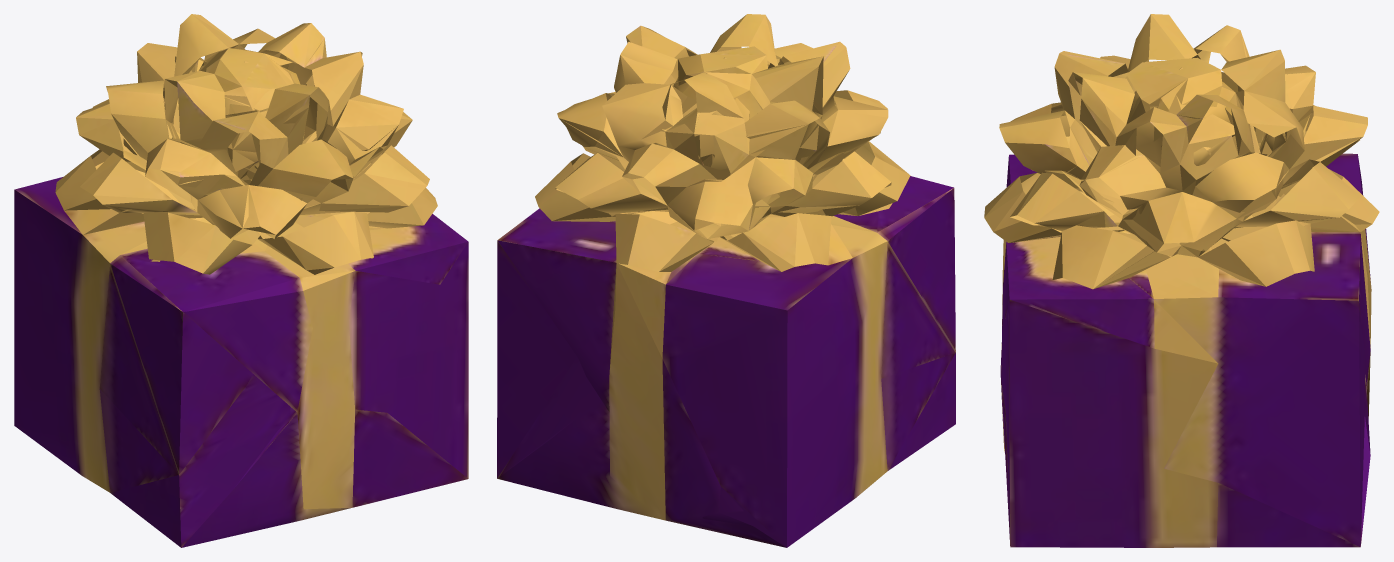
The model's file is gift_box.glb.
3 views of the same model, side by side, from view 1: azimuth 30°, elevation 25°; view 2: azimuth 150°, elevation 25°; view 3: azimuth 270°, elevation 25° (orthographic). The views are drawn at different scales.
Visible parts, largest first — view 1: Mesh_0; view 2: Mesh_0; view 3: Mesh_0.
Boxes of the visible parts, x1,y1,x2,y2 form: Mesh_0: [14, 14, 468, 547]; Mesh_0: [497, 14, 955, 547]; Mesh_0: [984, 14, 1379, 547].
Size of the model in its own units: 0.2452 by 0.3 by 0.2533.
1 material, 1 textured.
